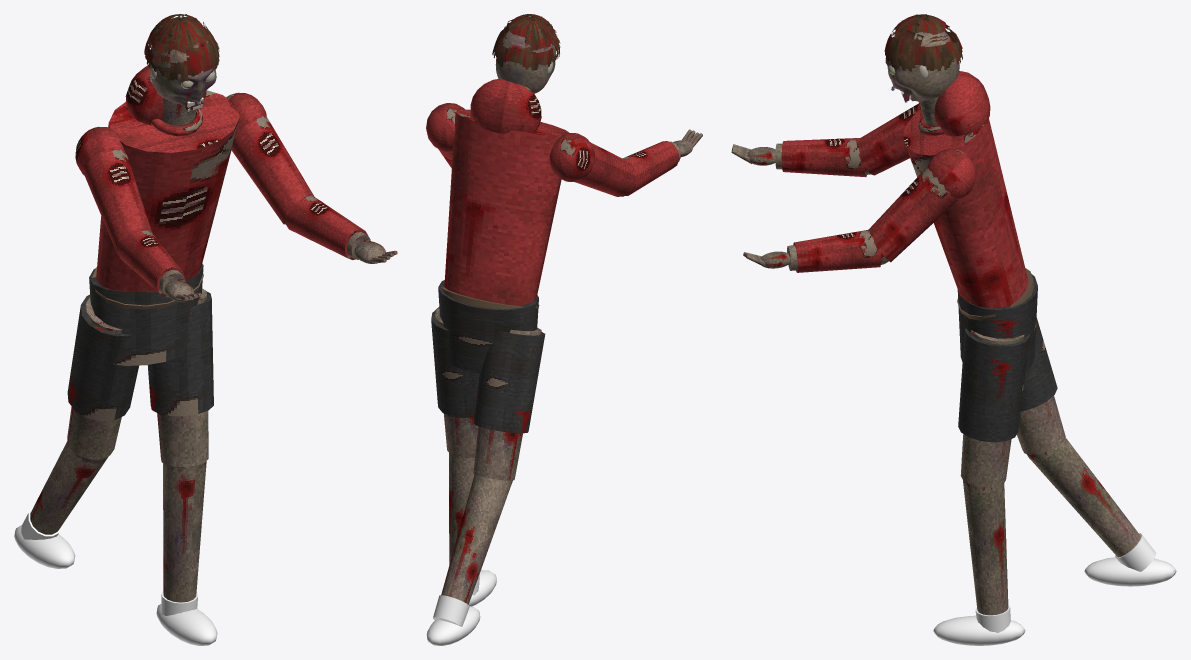
File: Zombie_138.glb
3 views of the same model, side by side, from view 1: azimuth 30°, elevation 25°; view 2: azimuth 150°, elevation 25°; view 3: azimuth 270°, elevation 25° (orthographic). The views are drawn at different scales.
Visible parts, largest first — view 1: Zombie_138, object 44, object 12, object 4, object 18; view 2: Zombie_138, object 44, object 18, object 4, object 43; view 3: Zombie_138, object 12, object 4, object 44, object 18.
Boxes of the visible parts, x1=… form: Zombie_138: x1=14, y1=64, x2=314, y2=645; object 44: x1=144, y1=14, x2=219, y2=80; object 12: x1=285, y1=195, x2=368, y2=259; object 4: x1=117, y1=229, x2=185, y2=297; object 18: x1=149, y1=40, x2=216, y2=106; Zombie_138: x1=426, y1=79, x2=636, y2=645; object 44: x1=492, y1=14, x2=559, y2=67; object 18: x1=495, y1=30, x2=556, y2=93; object 4: x1=622, y1=141, x2=678, y2=195; object 43: x1=493, y1=17, x2=558, y2=70; Zombie_138: x1=858, y1=71, x2=1176, y2=645; object 12: x1=793, y1=229, x2=881, y2=272; object 4: x1=781, y1=138, x2=866, y2=177; object 44: x1=884, y1=14, x2=962, y2=68; object 18: x1=885, y1=31, x2=959, y2=103.
Bounding box in the file's own units: 0.6721 × 1.88 × 1.24.
Materials: 16 (6 with a texture image).
